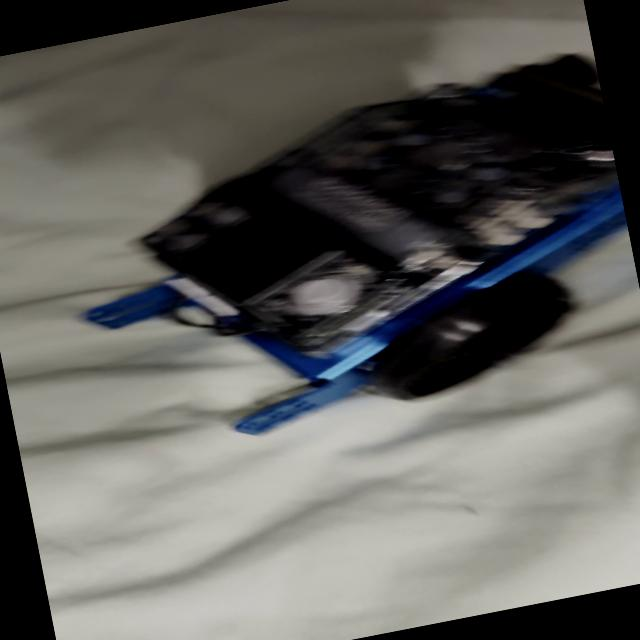mbot-detection: (33, 34, 640, 473)
